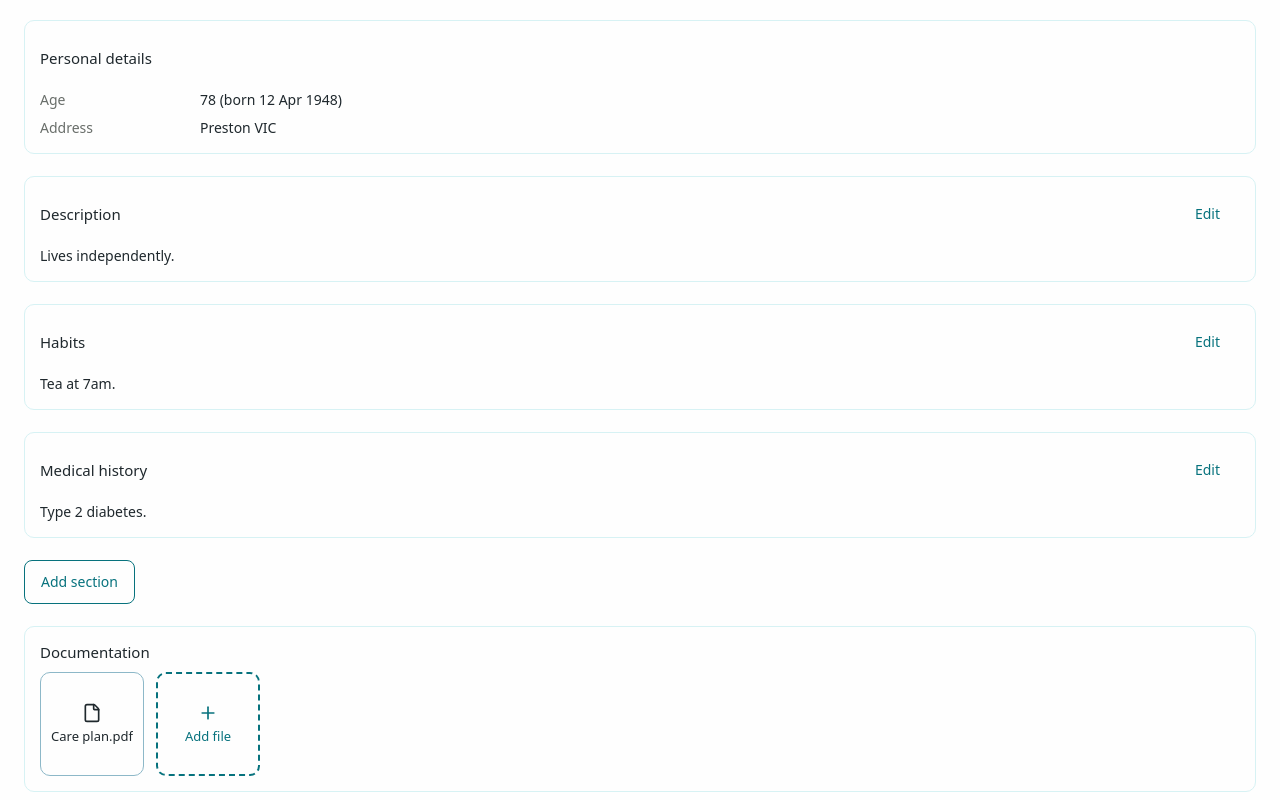
[FAM-09] saving a section › [FAM-09][AC-01] T-01b Save sends the client, the section and the text to the contract, shows the new text, refreshes the route, and focus returns to Edit
This screenshot has width=1280, height=800.
Click the button with aria-label "Edit Habits": (1207, 342) [1175,320,1240,364]
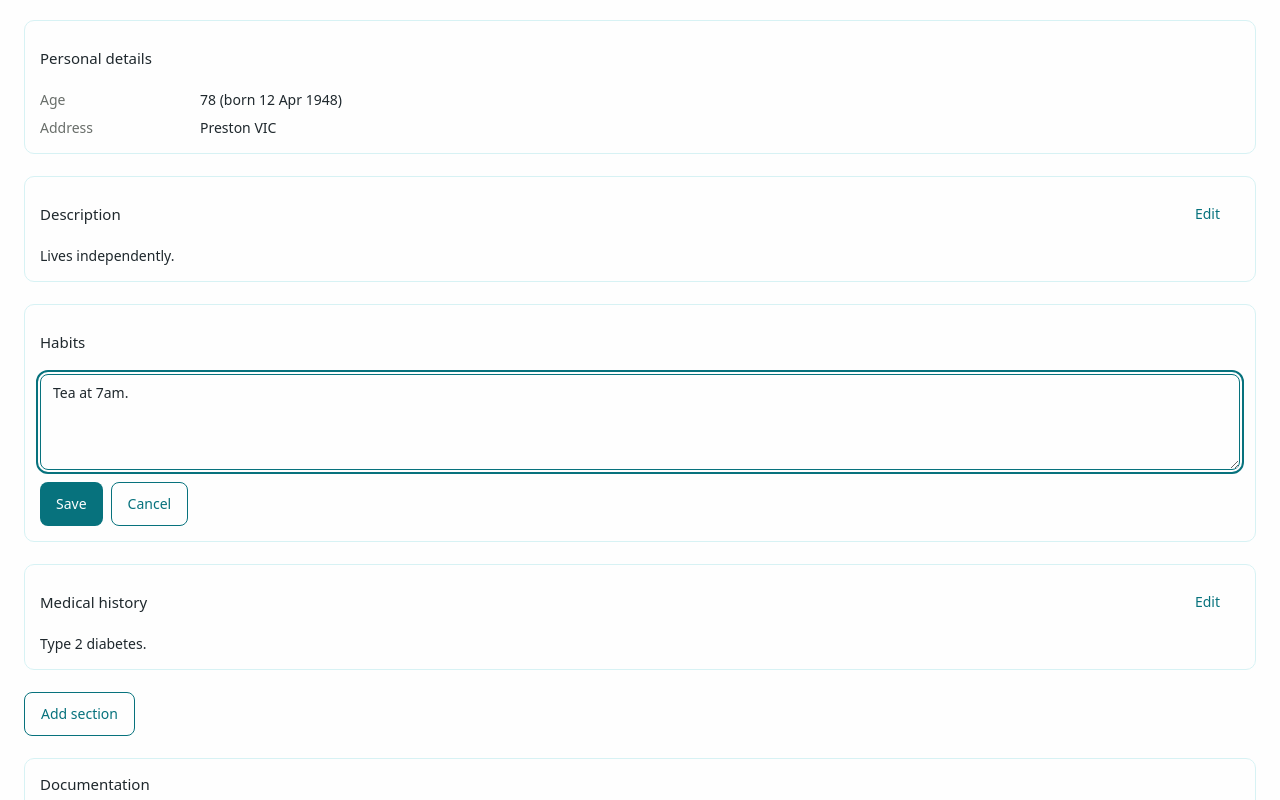
Replace the text in the text box with "Tea at 6am, then a walk.": (640, 422) [40,374,1240,470]
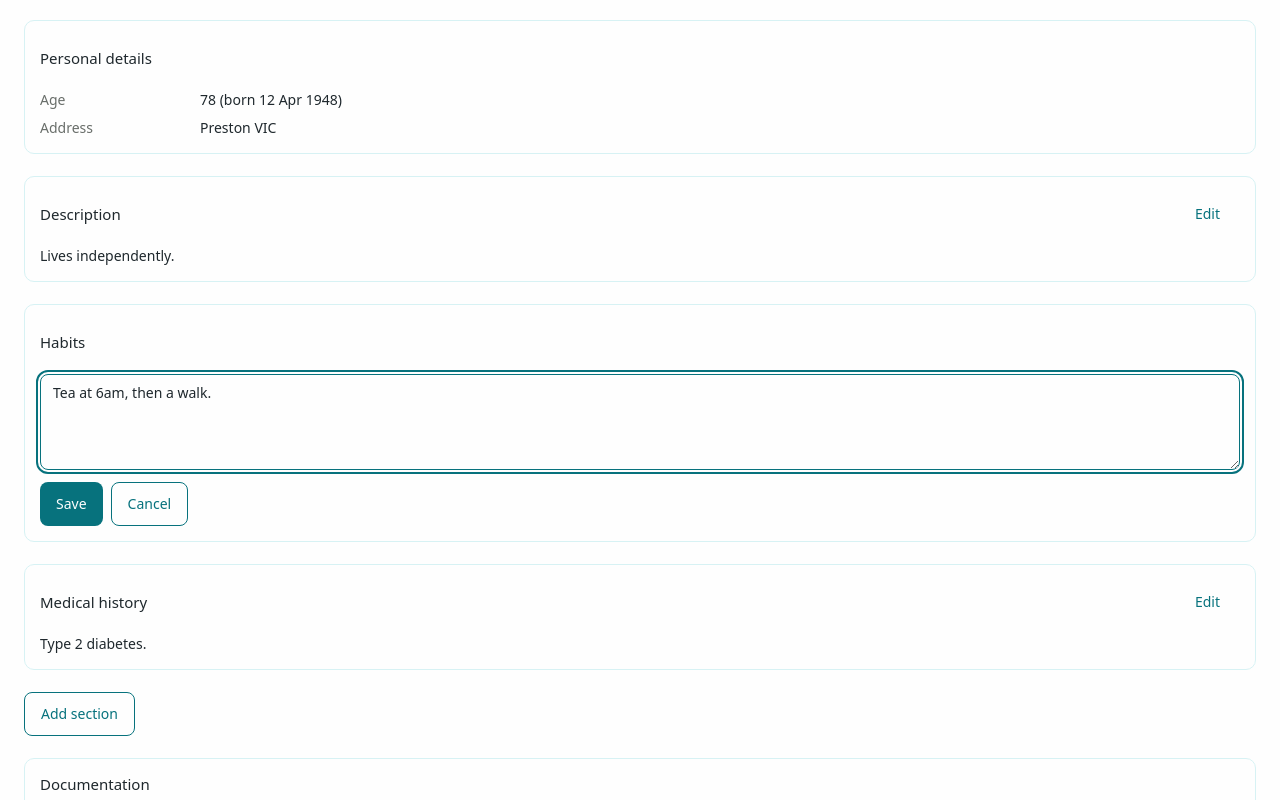
Click the button "Save": (71, 504) [40,482,103,526]
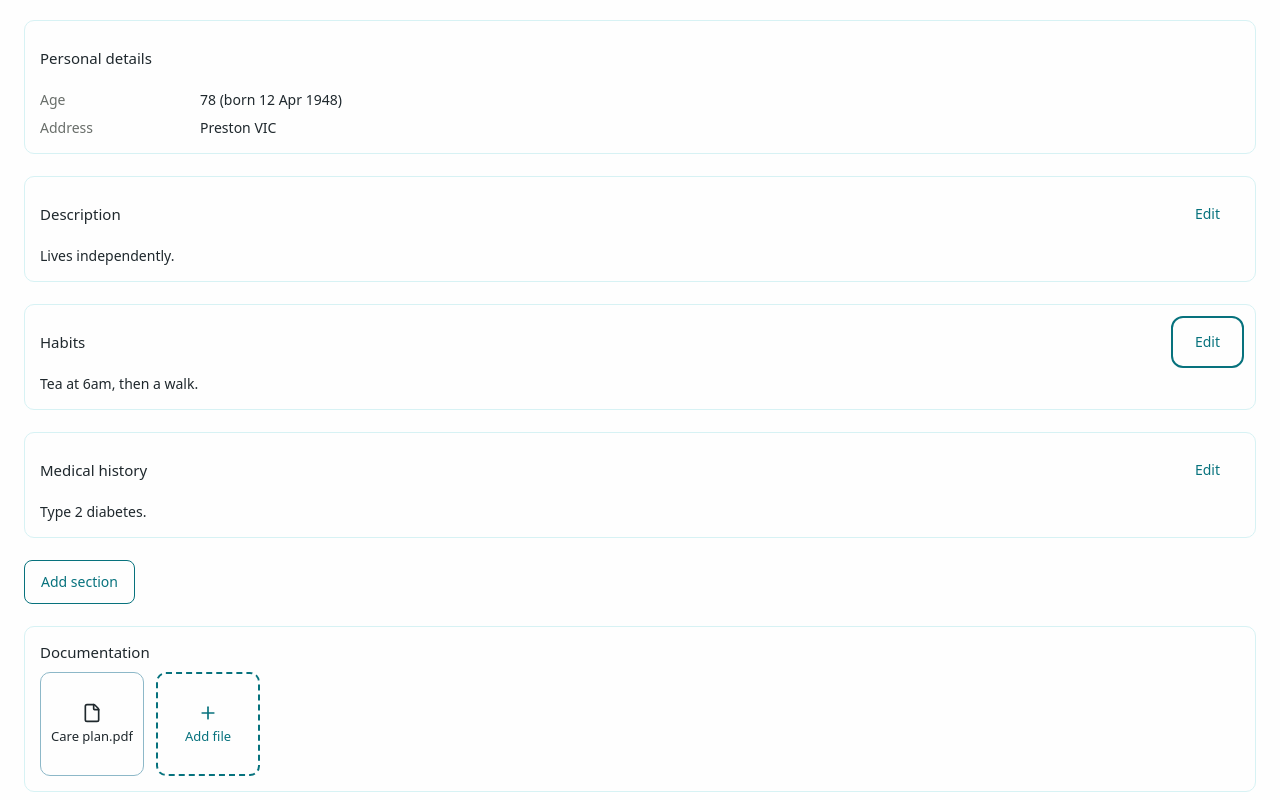
Check: the text "Tea at 6am, then a walk." is shown, box [40,374,198,393]
